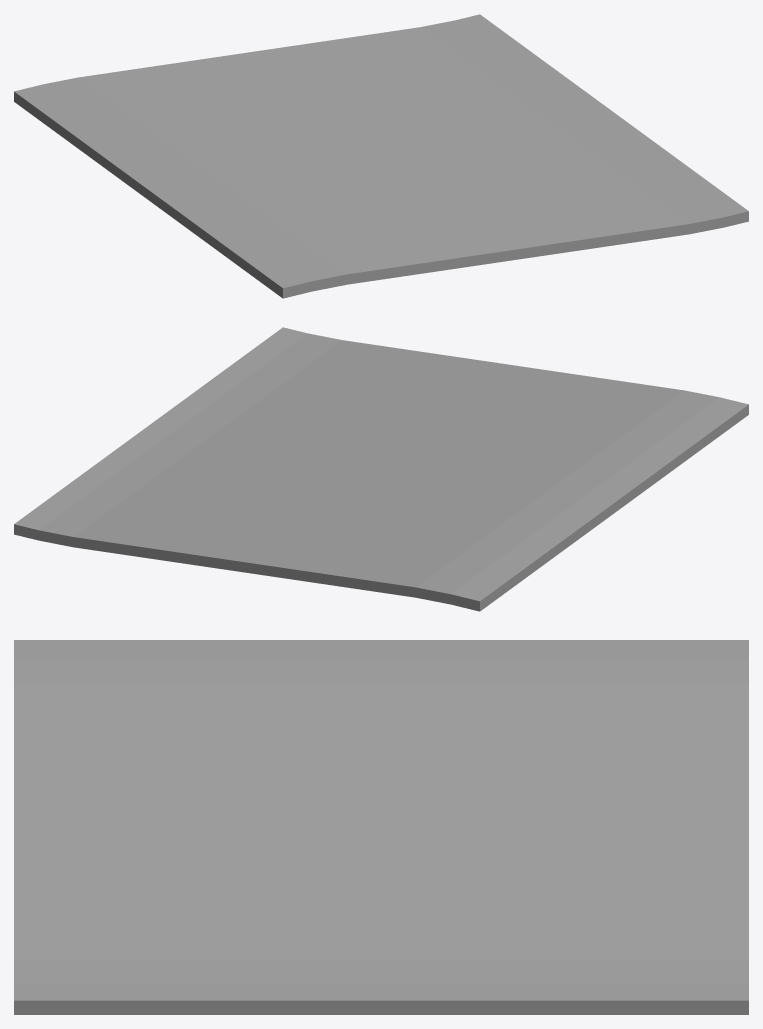
Rendered from pavementSlope.fbx.
3 renders of one model, top to bottom at view 1: azimuth 30°, elevation 25°; view 2: azimuth 150°, elevation 25°; view 3: azimuth 270°, elevation 25°, orthographic. The views are drawn at different scales.
Parts seen in each view (by area): view 1: PavementSlope; view 2: PavementSlope; view 3: PavementSlope.
Boxes of the visible parts, box(x1,y1,x2,y2) form: PavementSlope: box(14, 14, 748, 298); PavementSlope: box(14, 327, 748, 611); PavementSlope: box(14, 640, 748, 1014).
Bounding box in the file's own units: 2000 × 192 × 2000.
